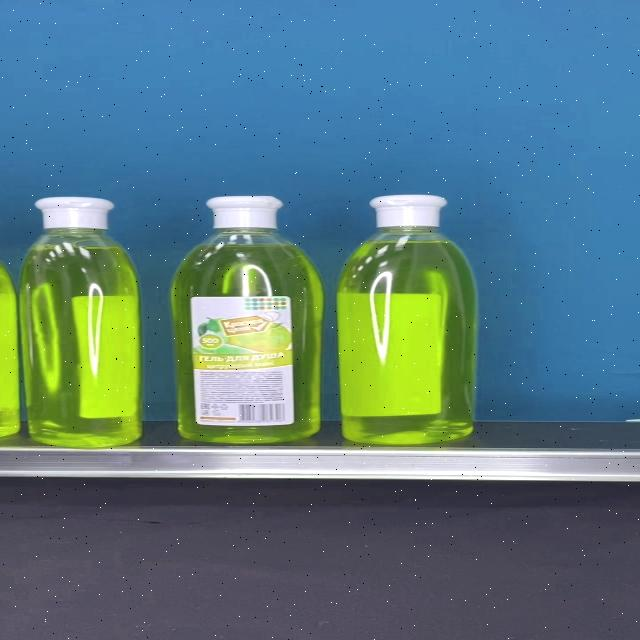Bottle: (171, 195, 324, 442), (338, 194, 476, 445), (20, 195, 141, 448)
Cap: (369, 194, 448, 228), (34, 196, 114, 229), (204, 196, 284, 228)
